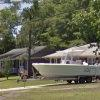Boat: (28, 52, 98, 86)
